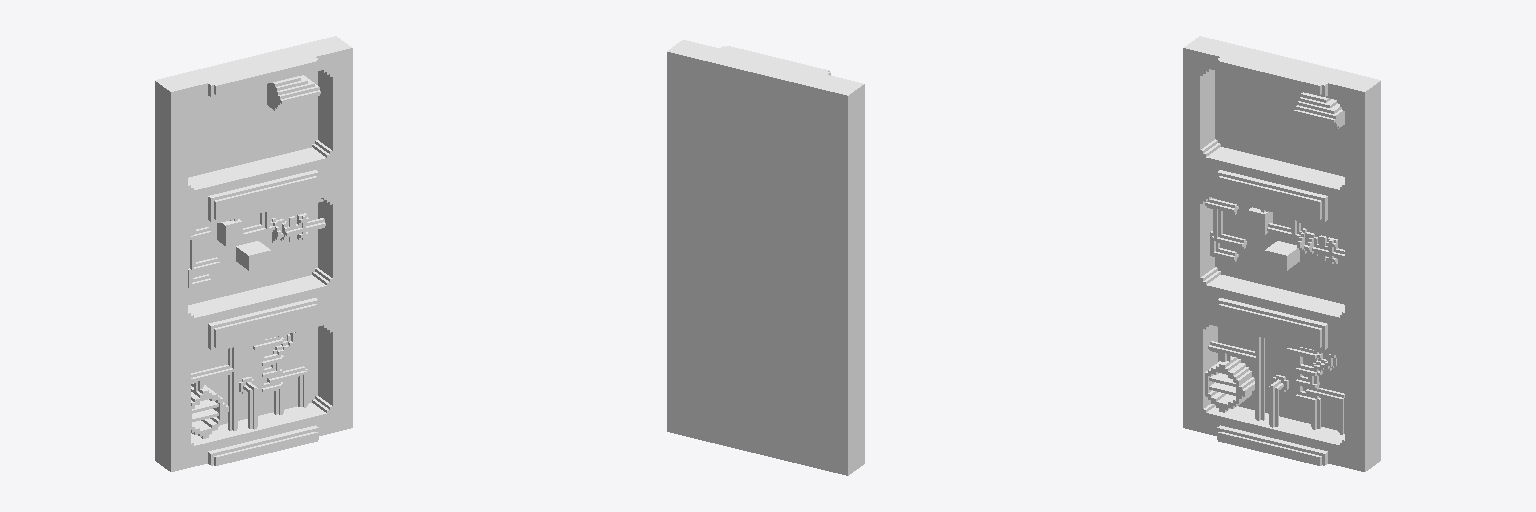
The model's file is tekwal04-0-WALTEK04.obj.
3 renders of one model, left to right at view 1: azimuth 30°, elevation 25°; view 2: azimuth 150°, elevation 25°; view 3: azimuth 330°, elevation 25°, orthographic.
Parts seen in each view (by area): view 1: WALTEK04; view 2: WALTEK04; view 3: WALTEK04.
Boxes of the visible parts, x1,y1,x2,y2 form: WALTEK04: [155, 36, 352, 471]; WALTEK04: [667, 40, 864, 475]; WALTEK04: [1183, 36, 1380, 471].
Size of the model in its own units: 6.4 by 12.8 by 1.3.